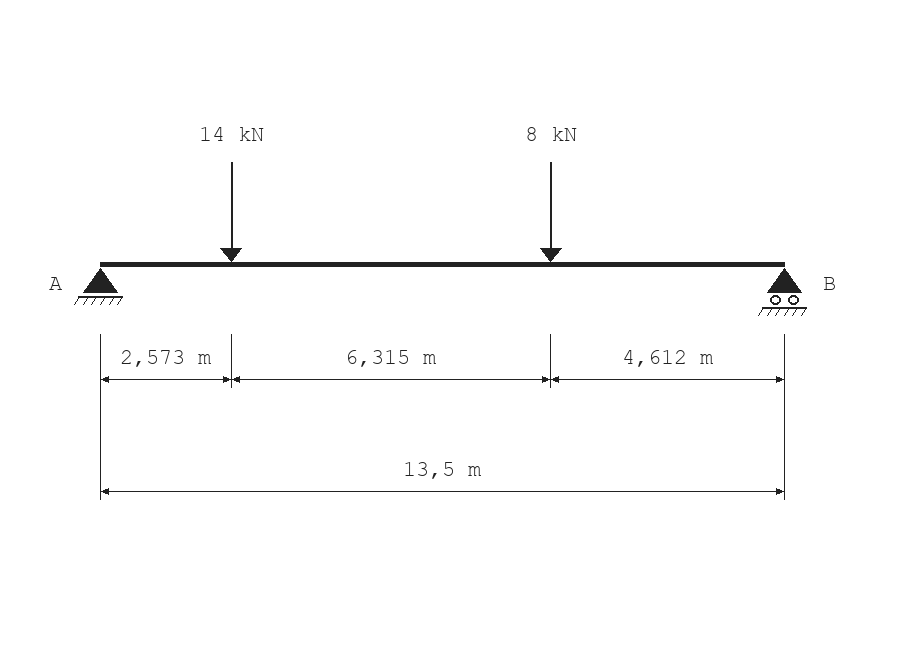pin_support: (74, 268, 123, 305)
point_load: (220, 162, 242, 262), (540, 162, 562, 262)
roller_support: (758, 268, 807, 316)
